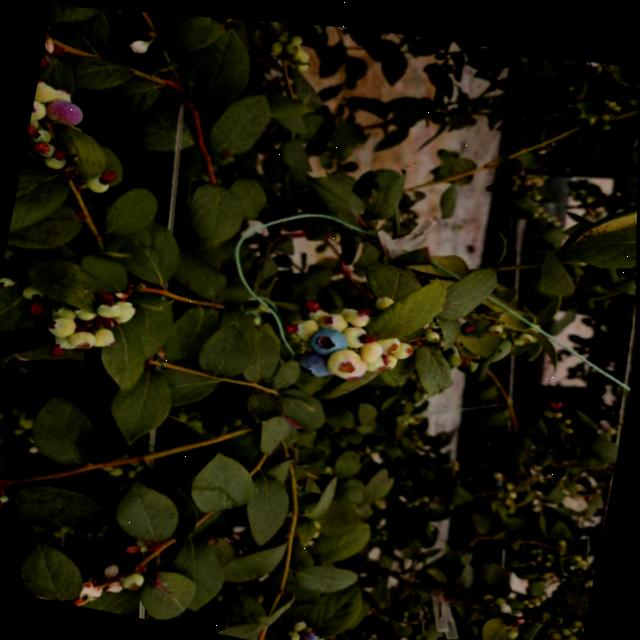RipeBlueBerry: (305, 318, 352, 356), (294, 342, 334, 377)
Semi-RipeBlueBerry: (43, 87, 88, 124)
UnripeBlueBerry: (323, 339, 365, 377)
